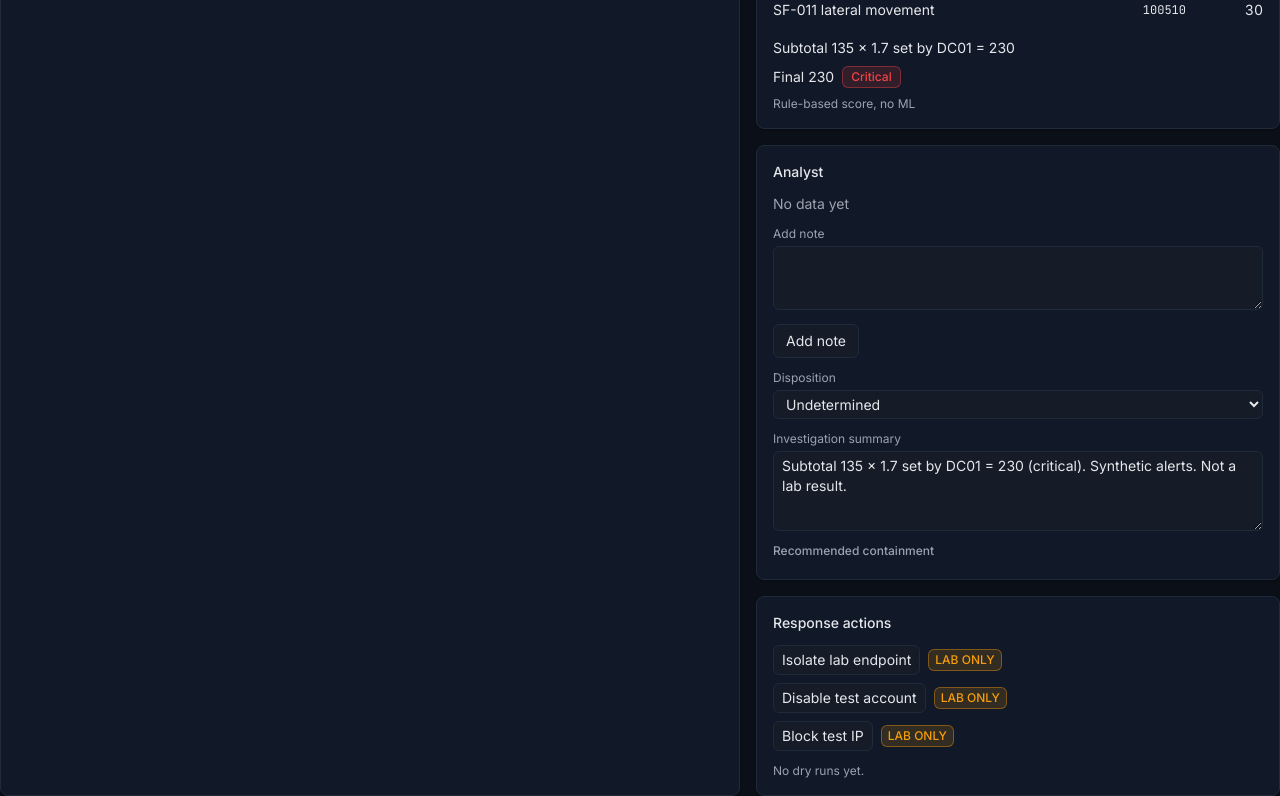
Scenario: investigation response actions › shows a confirm modal and does not execute the action
This screenshot has width=1280, height=796.
(page scrolled)
Click the button "Isolate lab endpoint".
click(847, 660)  # box x1=773 y1=645 x2=920 y2=675
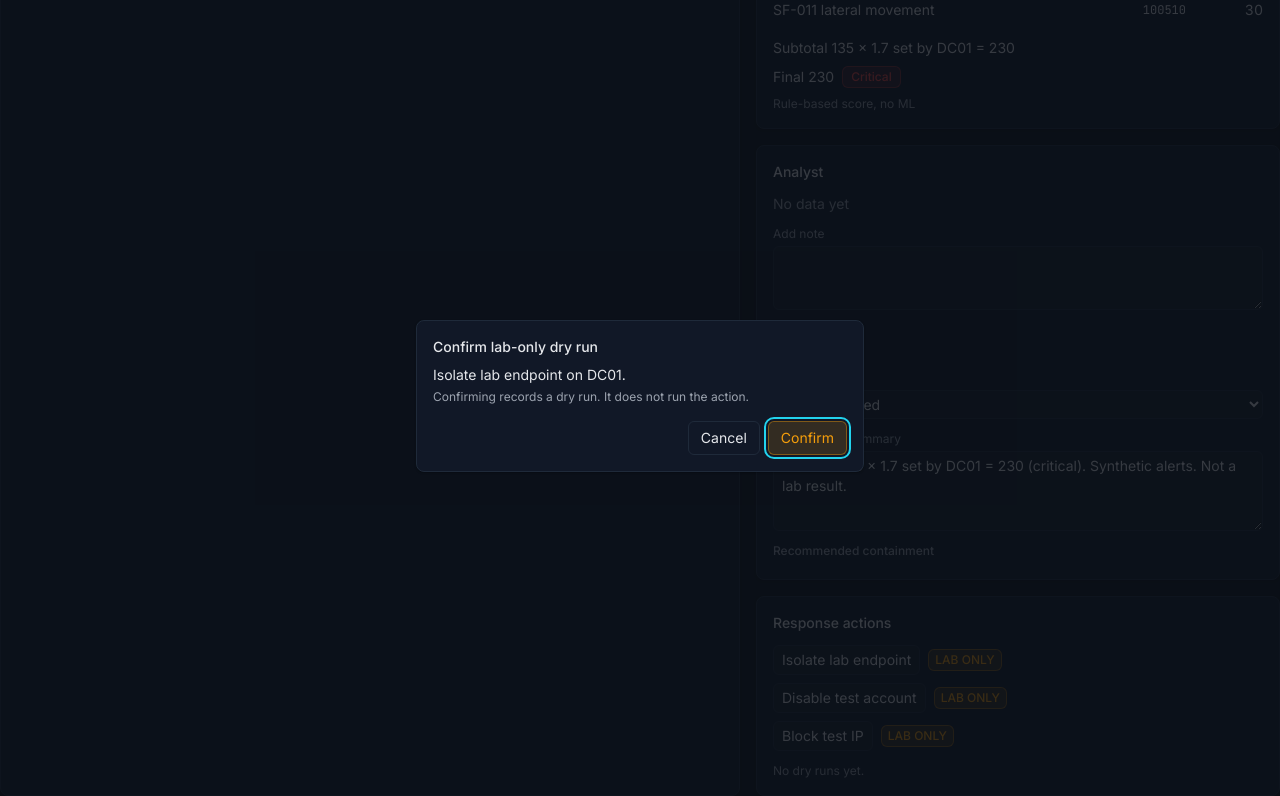
expect the text "Dry run: no action executed" is not shown: met
expect the dialog shows "Isolate lab endpoint": met, box x1=433 y1=366 x2=562 y2=383
expect the dialog shows "DC01": met, box x1=587 y1=366 x2=622 y2=383
Click the button "Confirm".
click(807, 438)  # box x1=768 y1=421 x2=847 y2=455
(page scrolled)
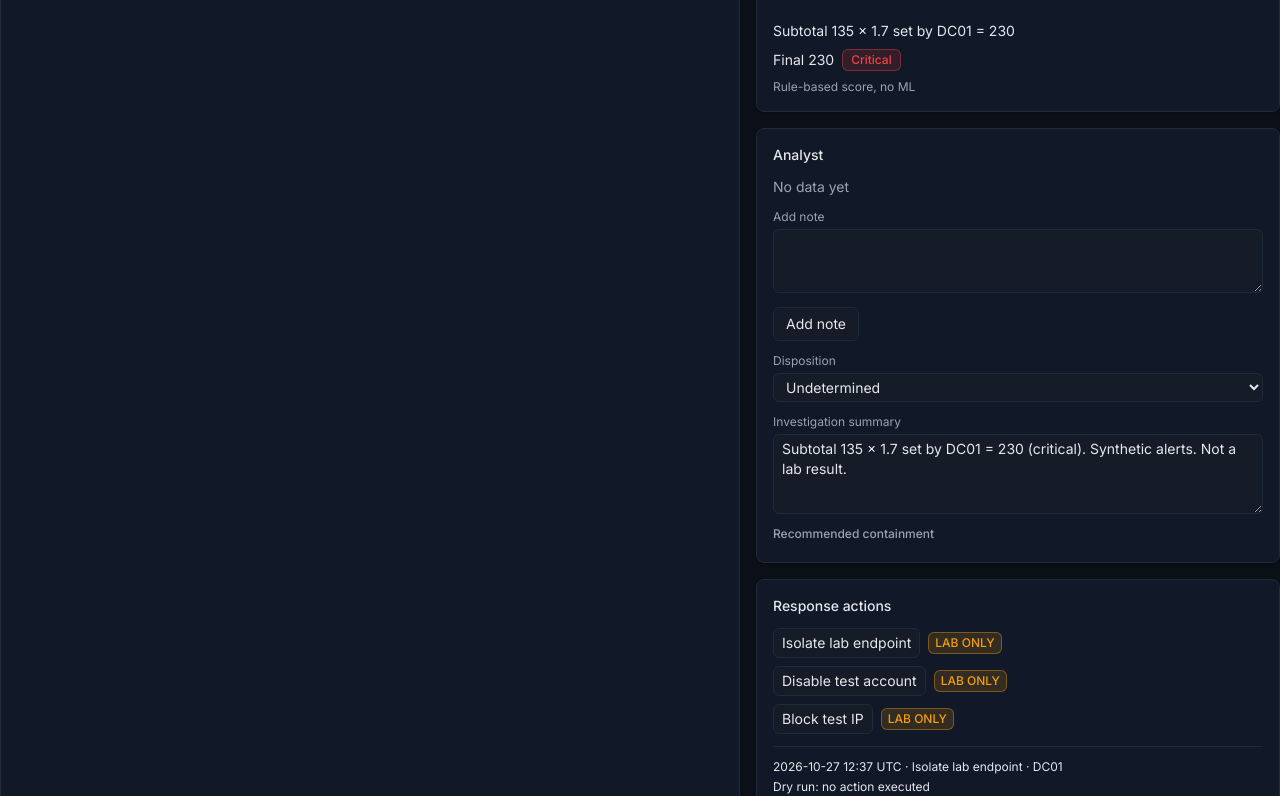
expect the text "Dry run: no action executed" is shown: met, box x1=773 y1=779 x2=930 y2=794
expect the dialog is gone: met
